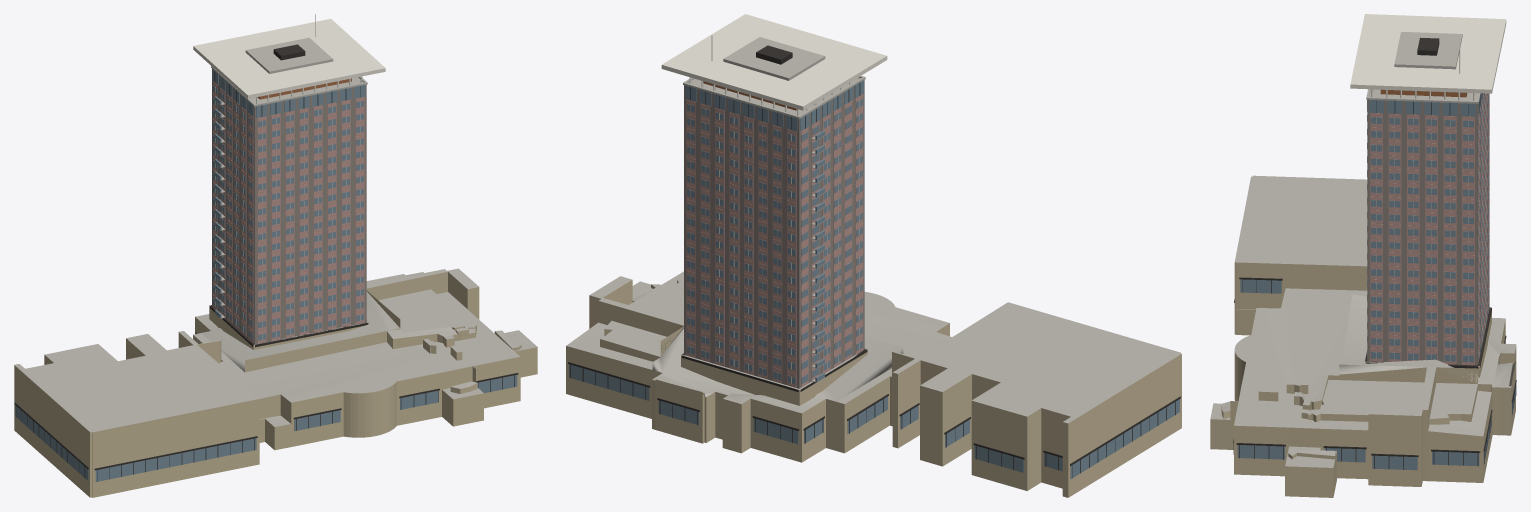
File: hotel-okura.glb
3 renders of one model, left to right at view 1: azimuth 30°, elevation 25°; view 2: azimuth 150°, elevation 25°; view 3: azimuth 270°, elevation 25°, orthographic. The views are drawn at different scales.
Visible parts, largest first — view 1: hotel-okura; view 2: hotel-okura; view 3: hotel-okura.
Boxes of the visible parts, x1,y1,x2,y2 form: hotel-okura: [14, 14, 537, 497]; hotel-okura: [566, 14, 1181, 497]; hotel-okura: [1210, 14, 1516, 497].
Bounding box in the file's own units: 121 × 83.5 × 62.49.
